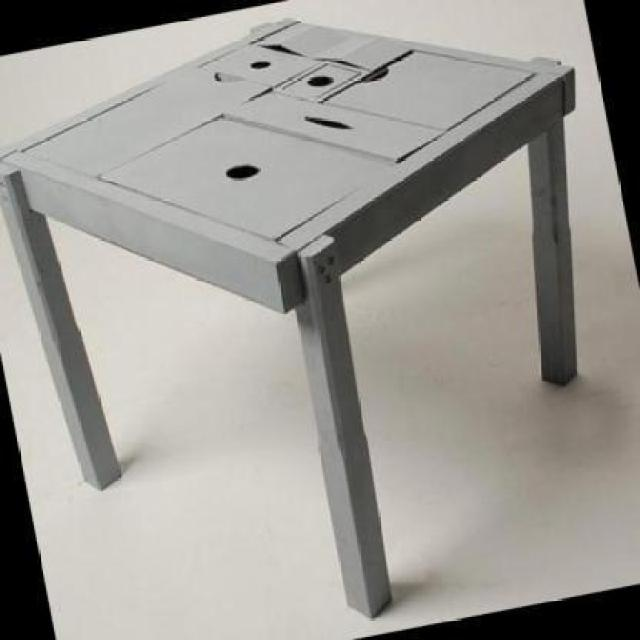tables: (0, 14, 580, 620)
